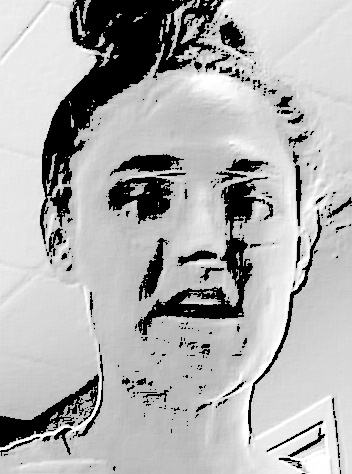nose_M_C: (173, 203, 230, 285)
